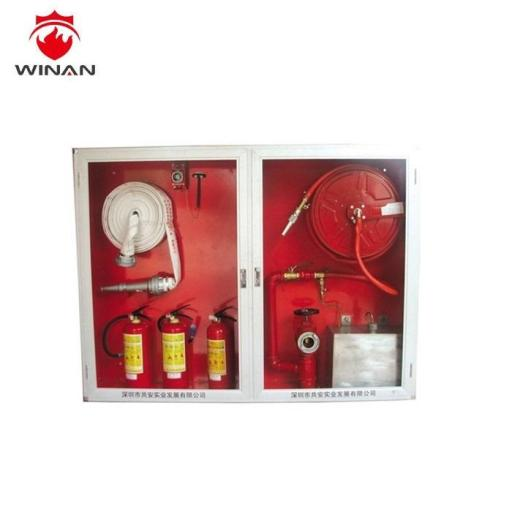fire_hose: (61, 134, 417, 410)
